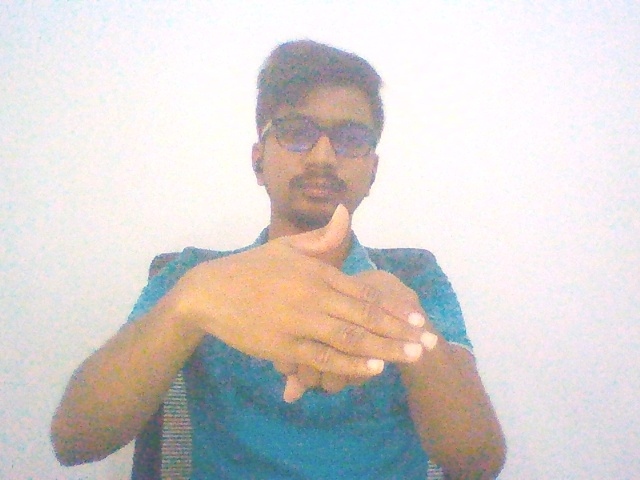pineapple: (134, 188, 458, 426)
